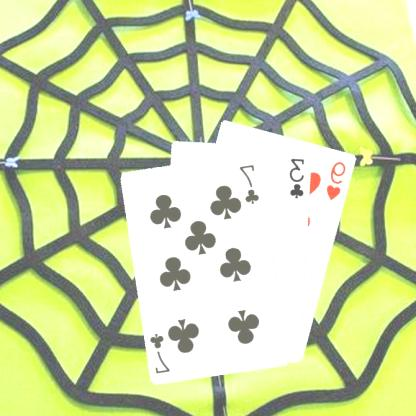3C: (289, 156, 308, 199)
7C: (149, 330, 173, 375), (238, 161, 262, 205)
9H: (326, 158, 350, 202)
